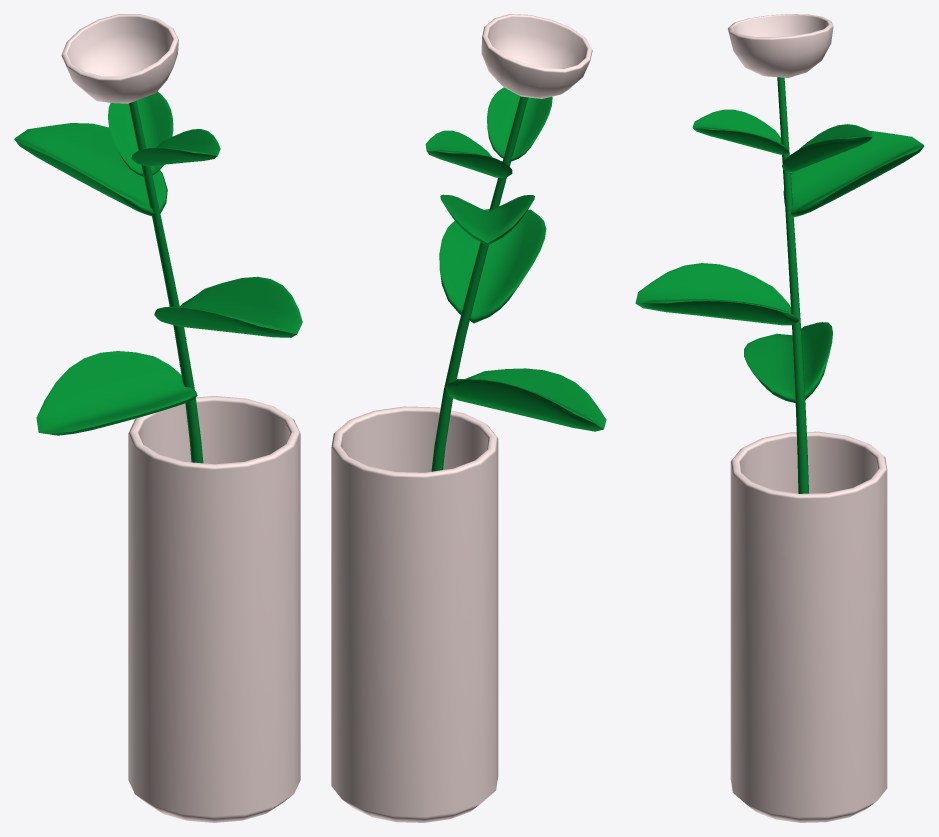
File: Store_4_Vase_With_flower_1.glb
3 views of the same model, side by side, from view 1: azimuth 30°, elevation 25°; view 2: azimuth 150°, elevation 25°; view 3: azimuth 270°, elevation 25° (orthographic). The views are drawn at different scales.
Visible parts, largest first — view 1: Store_4_Vase_With_flower_1; view 2: Store_4_Vase_With_flower_1; view 3: Store_4_Vase_With_flower_1.
Part boxes in pixels (<box>): Store_4_Vase_With_flower_1: <box>14,14,302,822</box>; Store_4_Vase_With_flower_1: <box>331,14,606,822</box>; Store_4_Vase_With_flower_1: <box>635,14,924,822</box>.
Bounding box in the file's own units: 0.261 × 0.7666 × 0.2753.
Materials: 1 (1 with a texture image).
